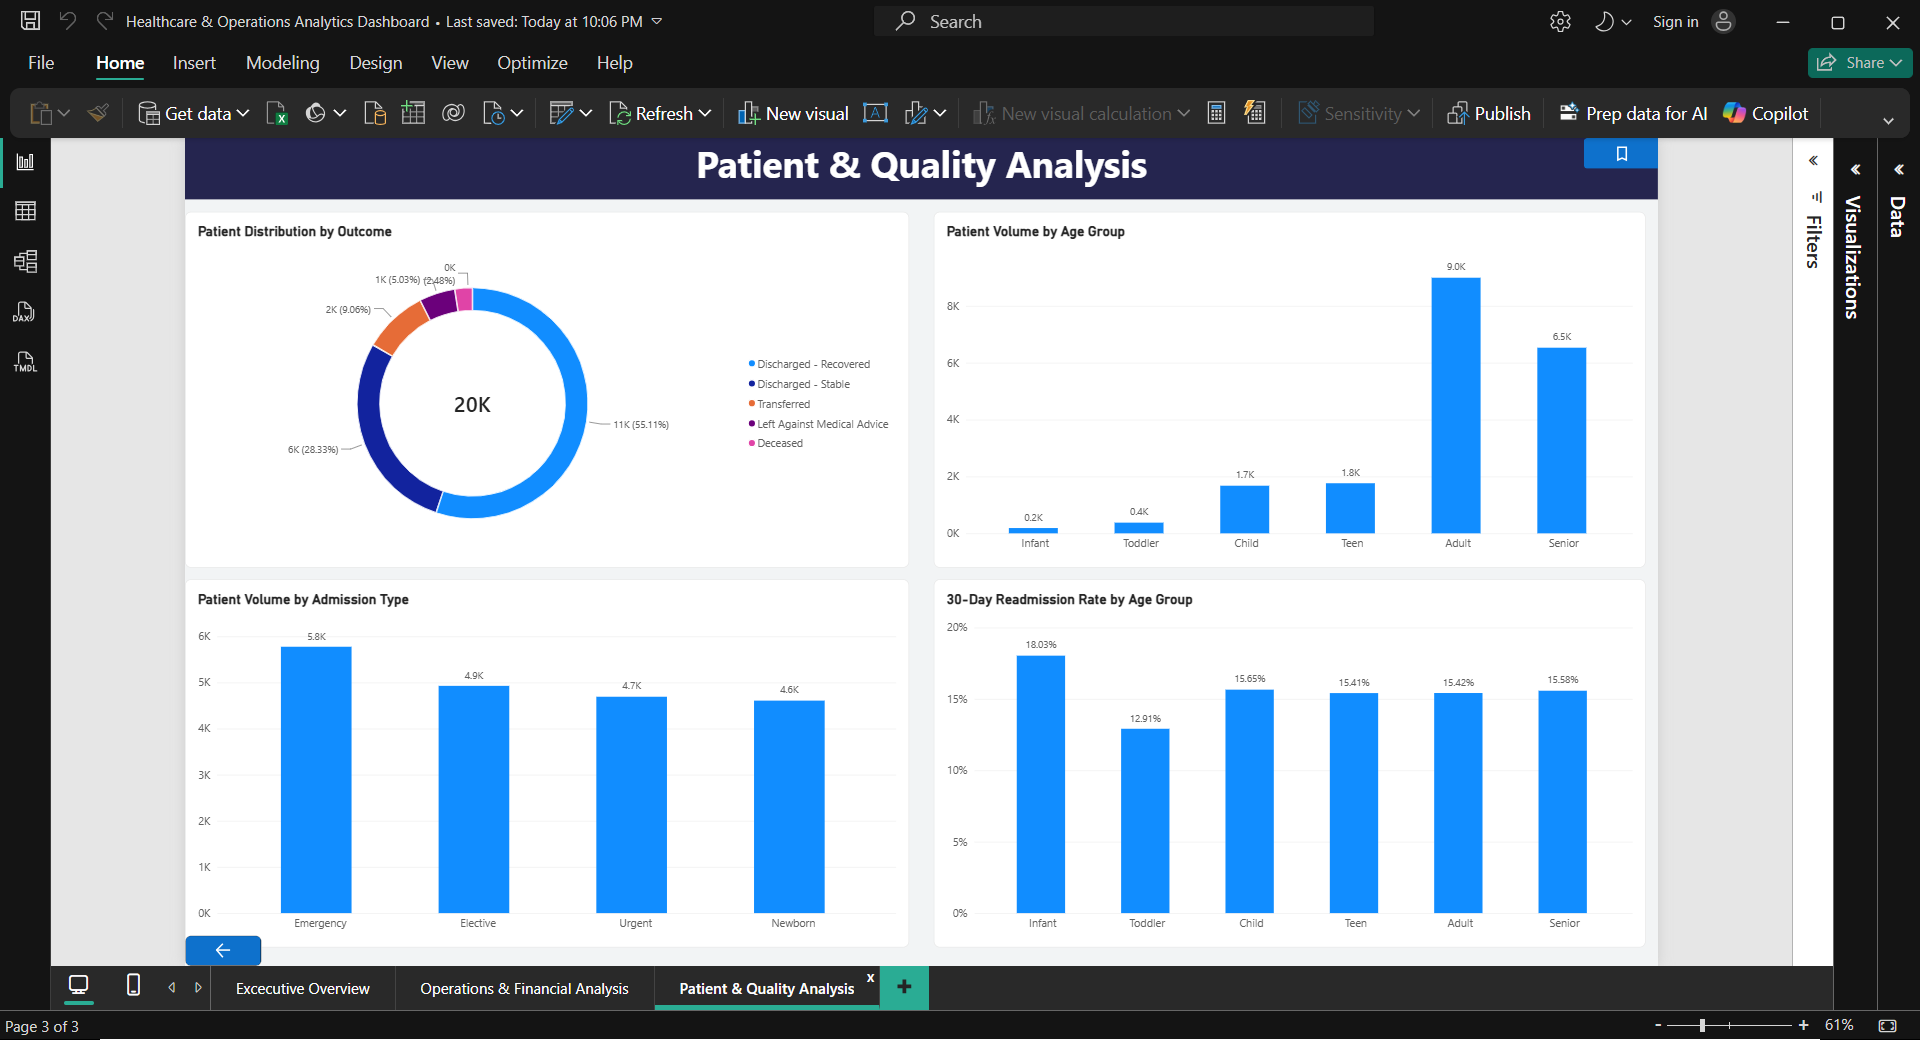

This screenshot's page, from the dashboard's own definition file:
{"tool":"powerbi","page":{"name":"Patient & Quality Analysis","canvas":[1920,1080],"ordinal":2},"visuals":[{"type":"donutChart","title":"Patient Distribution by Outcome","fields":{"Category":["Clean Data.Outcome"],"Y":["Clean Data.Total Patients"]},"box":[0,96,944,464],"z":0},{"type":"clusteredColumnChart","title":"Patient Volume by Age Group","fields":{"Category":["Clean Data.Age_Group"],"Y":["Clean Data.Total Patients"]},"box":[976,96,928,464],"z":1000},{"type":"clusteredColumnChart","title":"Patient Volume by Admission Type","fields":{"Category":["Clean Data.Admission_Type"],"Y":["Clean Data.Total Patients"]},"box":[0,576,944,480],"z":2000},{"type":"clusteredColumnChart","title":"30-Day Readmission Rate by Age Group","fields":{"Category":["Clean Data.Age_Group"],"Y":["Clean Data.Readmission Rate"]},"box":[976,576,928,480],"z":3000},{"type":"textbox","box":[0,0,1920,80],"z":4000},{"type":"actionButton","box":[0,1040,100,40],"z":5000},{"type":"actionButton","box":[1824,0,100,40],"z":6000}]}

Visuals, with their boxes on the page's 1920x1080 design canvas (x1, y1, x2, y2). These are canvas units, not pixel positions in the 1920x1040 screenshot, which may show the page scaled, cropped or inside an application window:
"Patient Distribution by Outcome" donutChart: bbox(0, 96, 944, 560)
"Patient Volume by Age Group" clusteredColumnChart: bbox(976, 96, 1904, 560)
"Patient Volume by Admission Type" clusteredColumnChart: bbox(0, 576, 944, 1056)
"30-Day Readmission Rate by Age Group" clusteredColumnChart: bbox(976, 576, 1904, 1056)
textbox: bbox(0, 0, 1920, 80)
actionButton: bbox(0, 1040, 100, 1080)
actionButton: bbox(1824, 0, 1924, 40)
